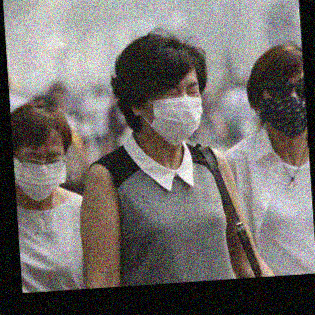with_mask: (140, 81, 204, 142), (14, 146, 66, 200), (262, 76, 306, 138)
